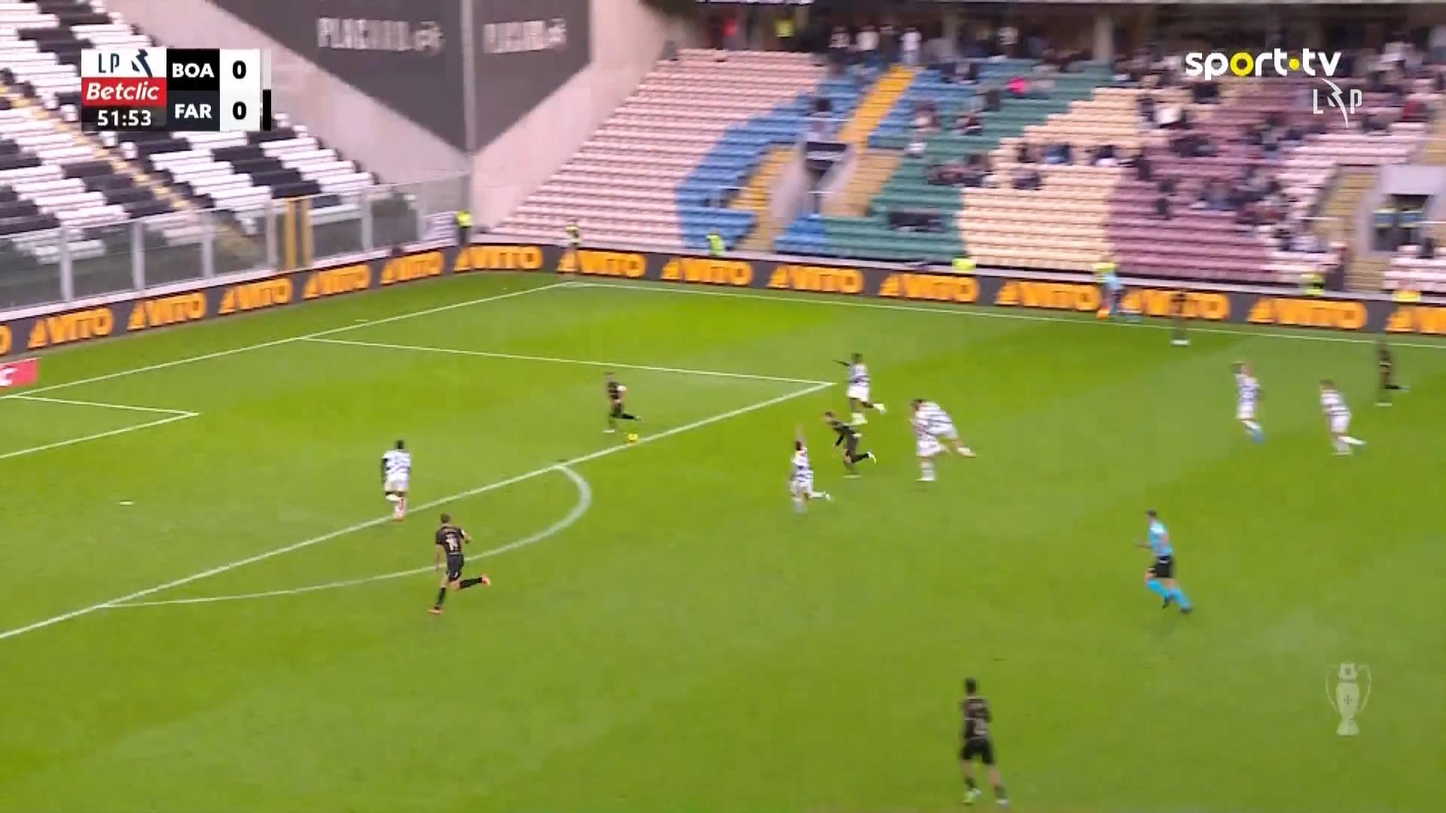ball: (626, 432, 638, 442)
player: (956, 675, 1009, 806), (427, 512, 490, 614), (907, 396, 978, 482), (831, 350, 886, 425), (1316, 378, 1365, 455), (822, 410, 877, 478), (787, 437, 833, 513), (1232, 361, 1265, 443), (380, 438, 412, 521), (1372, 340, 1409, 407), (602, 370, 641, 433), (1166, 290, 1192, 348)
referee: (1133, 507, 1193, 614), (1091, 254, 1125, 318)
